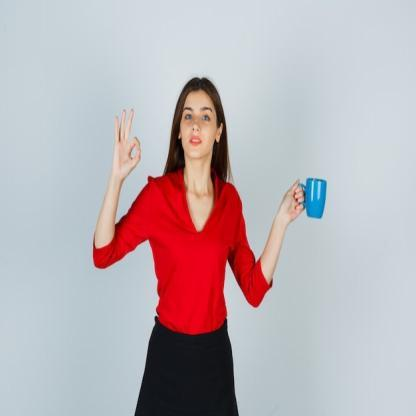ok: (110, 100, 145, 184)
